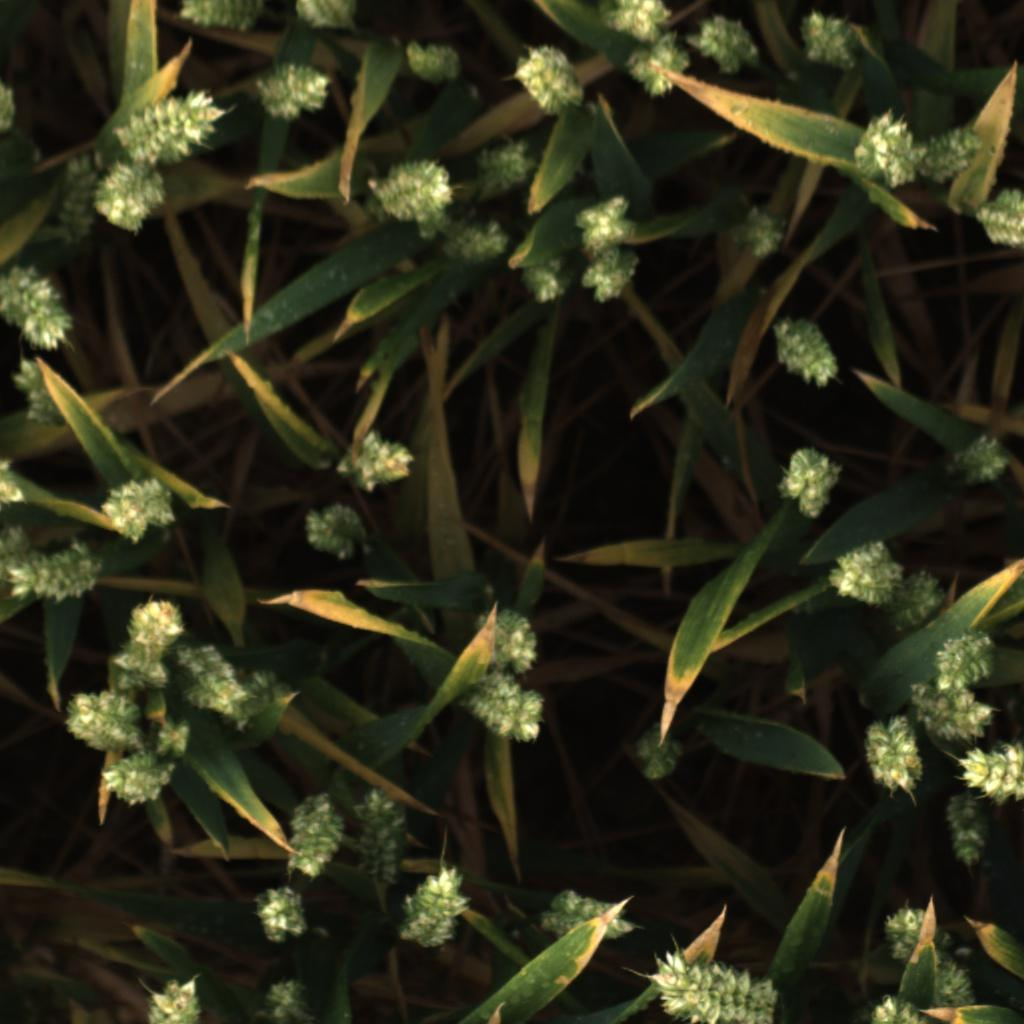0-0: (180, 630, 284, 736), (654, 949, 784, 1024), (117, 82, 229, 167), (365, 148, 468, 234), (38, 149, 111, 254), (351, 780, 420, 889), (50, 682, 151, 755), (94, 158, 174, 249), (5, 538, 104, 610), (0, 260, 78, 348), (330, 428, 424, 500), (858, 711, 931, 801), (395, 868, 475, 950), (766, 311, 845, 393), (459, 673, 550, 744), (281, 787, 348, 883), (902, 680, 996, 747), (512, 41, 591, 120), (99, 466, 179, 544), (772, 440, 846, 523), (290, 496, 376, 566), (251, 58, 335, 128), (853, 109, 920, 192), (790, 7, 869, 77), (570, 186, 646, 257), (824, 534, 897, 607), (913, 121, 992, 188), (473, 131, 547, 201), (953, 743, 1024, 813), (691, 8, 764, 75), (575, 244, 647, 310), (924, 947, 989, 1020), (477, 607, 547, 674), (622, 34, 692, 101), (2, 519, 57, 604), (440, 212, 518, 270), (927, 629, 1001, 690), (4, 360, 65, 434), (246, 880, 313, 947), (878, 902, 950, 963), (99, 755, 172, 813), (544, 902, 637, 947), (120, 592, 190, 651), (541, 880, 639, 922), (946, 432, 1013, 493), (98, 645, 174, 697), (975, 186, 1024, 266), (892, 565, 952, 630), (138, 969, 208, 1024), (731, 203, 794, 264), (943, 796, 993, 871), (627, 723, 688, 783), (256, 970, 323, 1024), (399, 34, 461, 92), (170, 0, 264, 38), (515, 253, 573, 311), (285, 0, 364, 34), (600, 0, 672, 37), (150, 712, 196, 763), (863, 987, 928, 1023)
